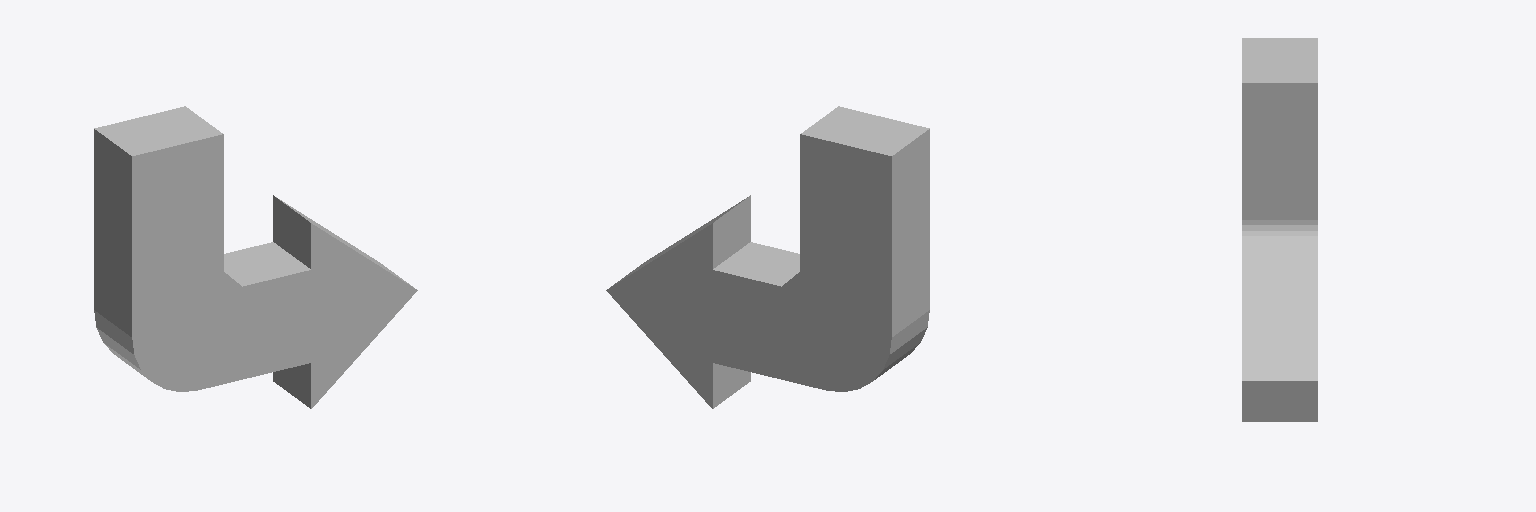
File: Arrow_55.obj
The picture shows the model from 3 angles: view 1: azimuth 30°, elevation 25°; view 2: azimuth 150°, elevation 25°; view 3: azimuth 270°, elevation 25°; orthographic projection.
Visible parts, largest first — view 1: Arrow_55; view 2: Arrow_55; view 3: Arrow_55.
Part boxes in pixels (bbox=[...]): Arrow_55: bbox=[94, 106, 417, 408]; Arrow_55: bbox=[606, 106, 929, 408]; Arrow_55: bbox=[1242, 38, 1317, 421].
Size of the model in its own units: 3.21 by 3.19 by 0.7423.